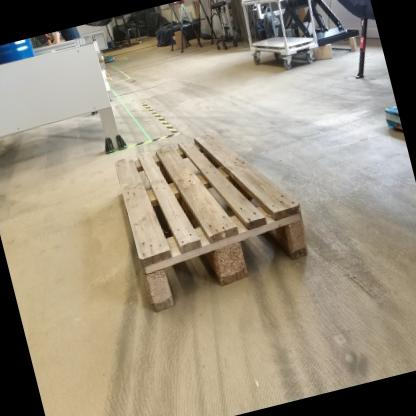BoxFace: (108, 124, 316, 319)
